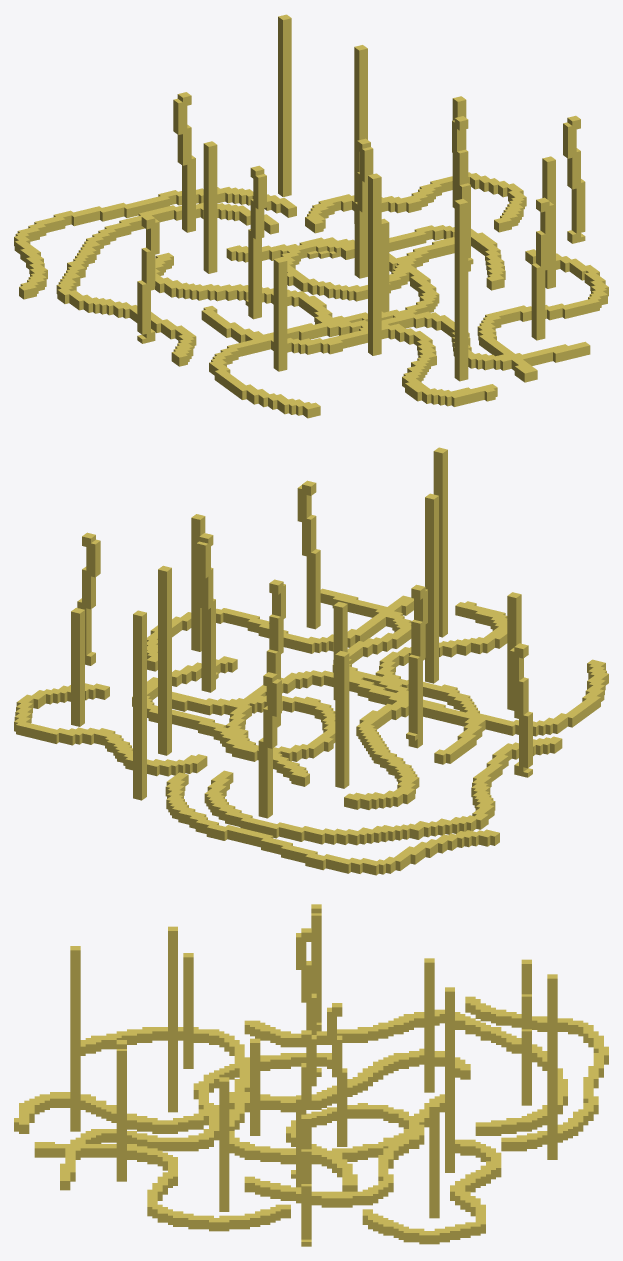
File: spaghetti_inner.obj
The picture shows the model from 3 angles, top to bottom: view 1: azimuth 30°, elevation 25°; view 2: azimuth 150°, elevation 25°; view 3: azimuth 270°, elevation 25°; orthographic projection. The views are drawn at different scales.
Parts seen in each view (by area): view 1: spaghetti_inner; view 2: spaghetti_inner; view 3: spaghetti_inner.
Part boxes in pixels (bbox=[...]): spaghetti_inner: bbox=[14, 14, 608, 418]; spaghetti_inner: bbox=[14, 447, 608, 875]; spaghetti_inner: bbox=[14, 904, 608, 1246].
Size of the model in its own units: 111 by 39 by 116.
1 material, 1 textured.
